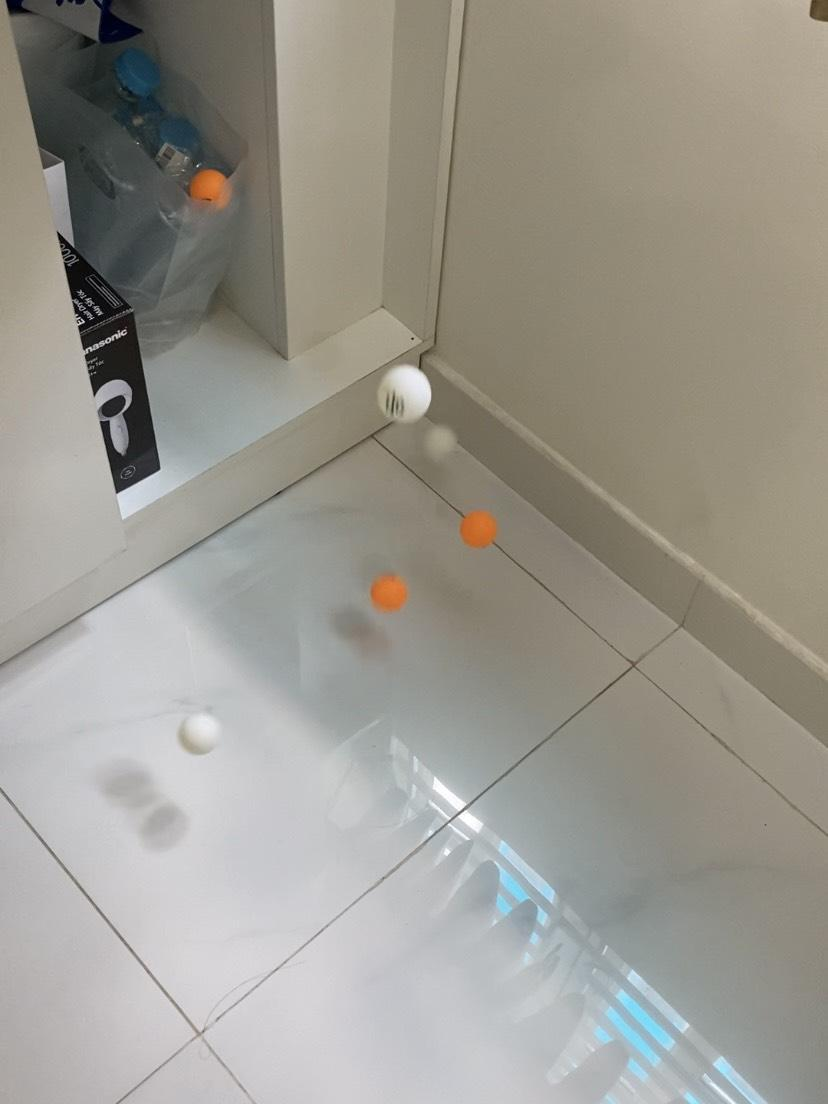oball: (190, 170, 232, 212), (460, 510, 498, 552), (370, 575, 410, 613), (422, 427, 458, 462)
